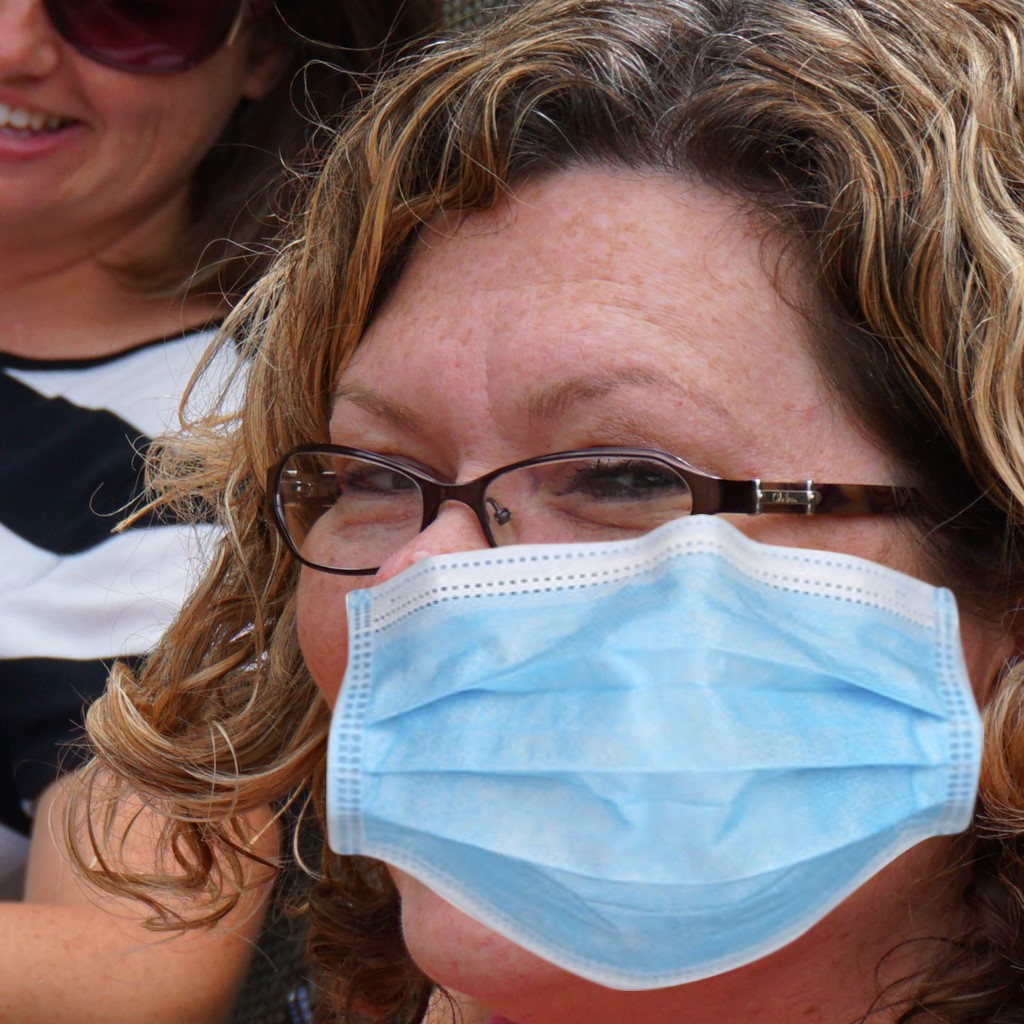con_mascara: (280, 146, 994, 939)
